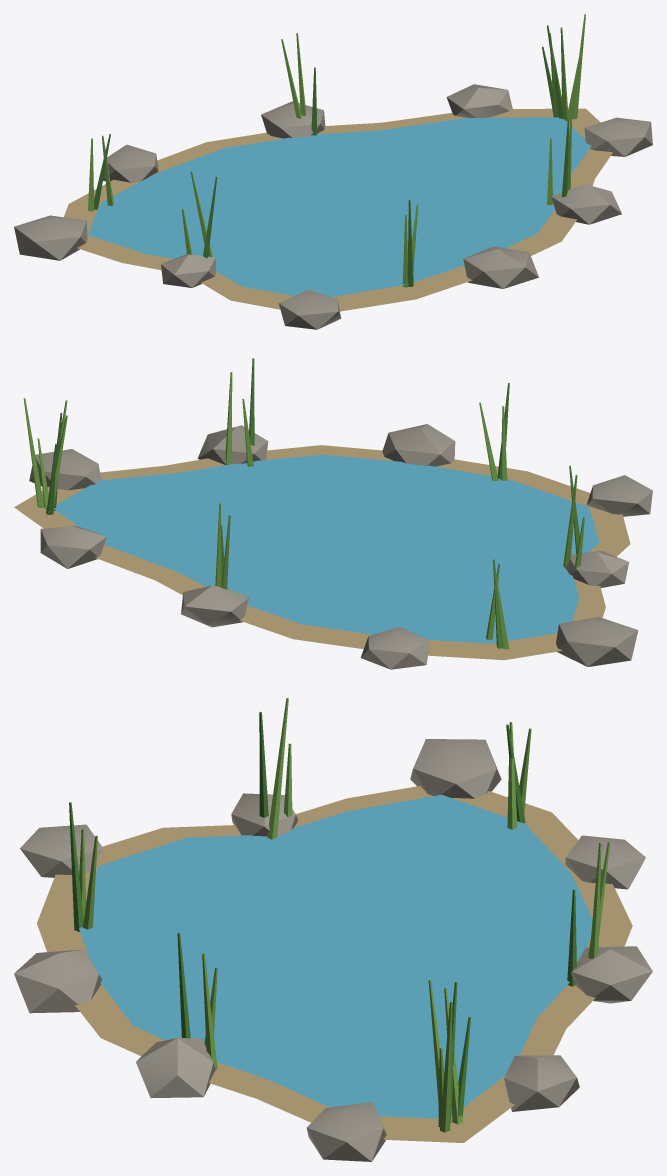
File: Pond.fbx
The picture shows the model from 3 angles, top to bottom: view 1: azimuth 30°, elevation 25°; view 2: azimuth 150°, elevation 25°; view 3: azimuth 270°, elevation 25°; orthographic projection. The views are drawn at different scales.
Parts seen in each view (by area): view 1: Pond; view 2: Pond; view 3: Pond.
Boxes of the visible parts, x1=… form: Pond: x1=14, y1=14, x2=652, y2=329; Pond: x1=14, y1=358, x2=652, y2=669; Pond: x1=14, y1=698, x2=652, y2=1161.
Size of the model in its own units: 4.52 by 0.8325 by 3.03.
